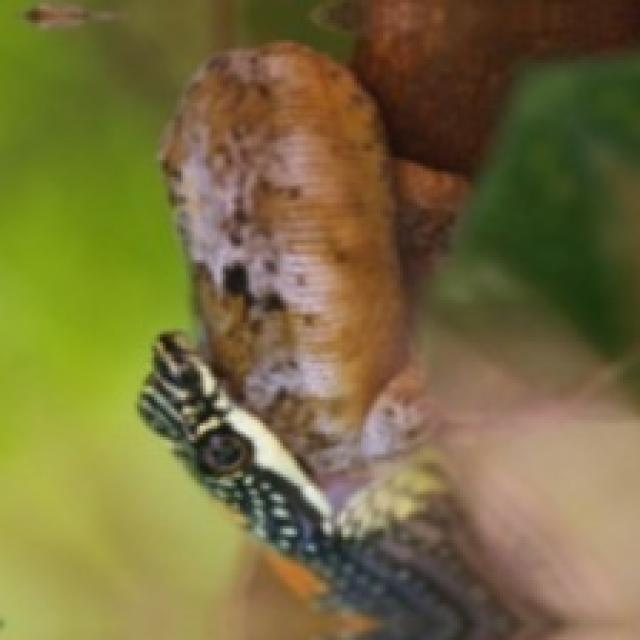paradise tree snake: (140, 43, 617, 637), (140, 43, 526, 637)
